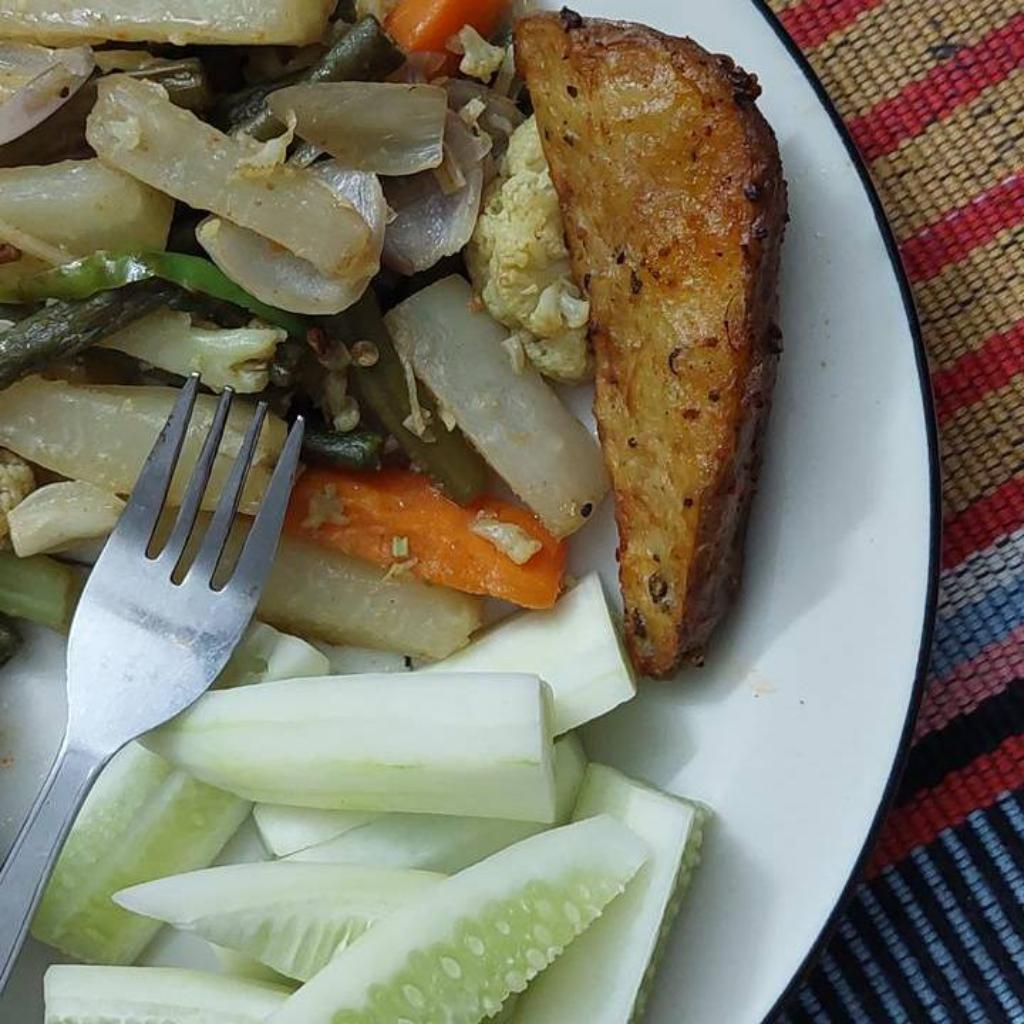cucumber: (33, 576, 703, 1023)
potato: (515, 13, 786, 674)
vegetable: (0, 0, 606, 658)
